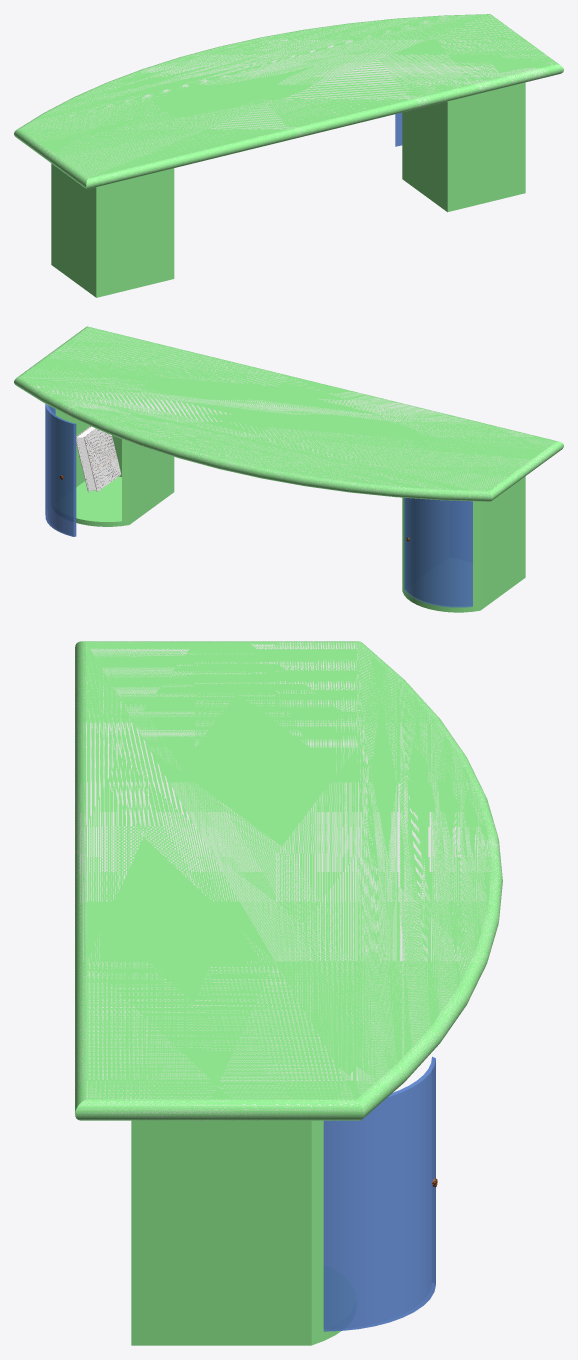
3 renders of one model, top to bottom at view 1: azimuth 30°, elevation 25°; view 2: azimuth 150°, elevation 25°; view 3: azimuth 270°, elevation 25°, orthographic. The views are drawn at different scales.
Parts seen in each view (by area): view 1: mesh13_mesh13-geometry, mesh1_mesh1-geometry, mesh5_mesh5-geometry; view 2: mesh13_mesh13-geometry, mesh1_mesh1-geometry, mesh5_mesh5-geometry, mesh4_mesh4-geometry, mesh8_mesh8-geometry; view 3: mesh13_mesh13-geometry, mesh5_mesh5-geometry, mesh4_mesh4-geometry.
Boxes of the visible parts, x1=… form: mesh13_mesh13-geometry: x1=14, y1=14, x2=563, y2=189; mesh1_mesh1-geometry: x1=51, y1=163, x2=174, y2=297; mesh5_mesh5-geometry: x1=402, y1=82, x2=525, y2=212; mesh13_mesh13-geometry: x1=14, y1=326, x2=563, y2=501; mesh1_mesh1-geometry: x1=402, y1=476, x2=525, y2=612; mesh5_mesh5-geometry: x1=55, y1=409, x2=174, y2=526; mesh4_mesh4-geometry: x1=45, y1=404, x2=76, y2=536; mesh8_mesh8-geometry: x1=76, y1=426, x2=121, y2=492; mesh13_mesh13-geometry: x1=75, y1=641, x2=502, y2=1120; mesh5_mesh5-geometry: x1=131, y1=1120, x2=340, y2=1345; mesh4_mesh4-geometry: x1=323, y1=1056, x2=437, y2=1331.
Bounding box in the file's own units: 0.9051 × 0.2401 × 0.351.
